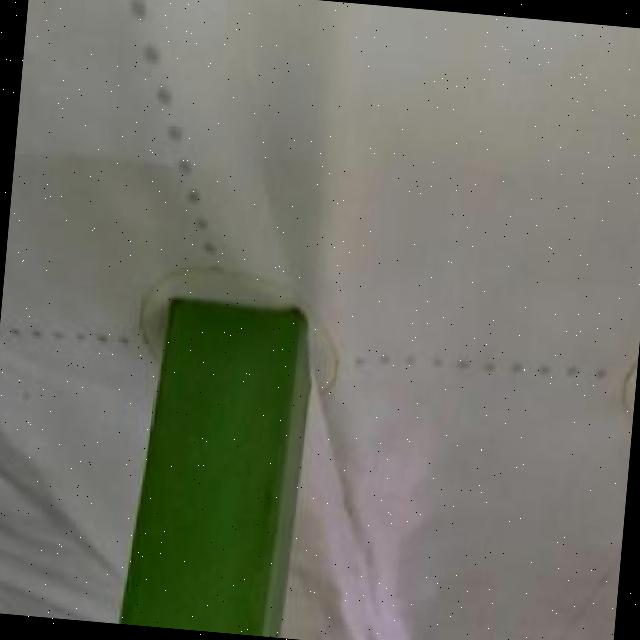greenbox: (116, 292, 319, 638)
